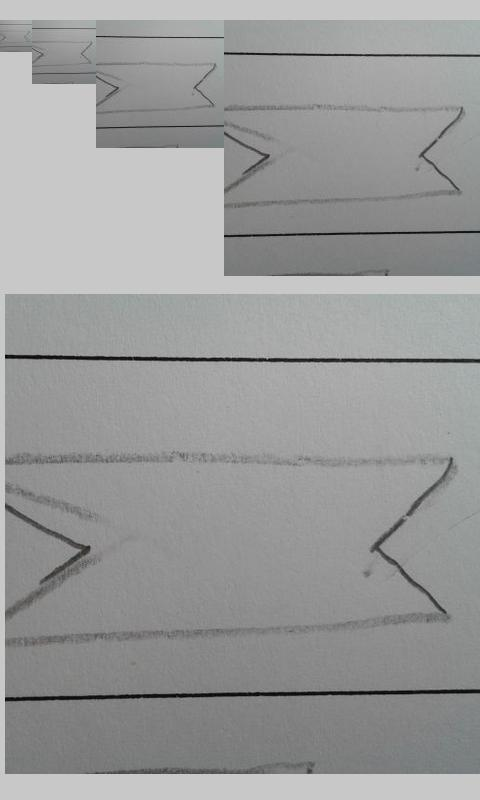edit_text: (3, 451, 458, 648), (224, 103, 466, 208), (95, 61, 219, 115), (32, 40, 93, 67), (1, 30, 31, 44)
